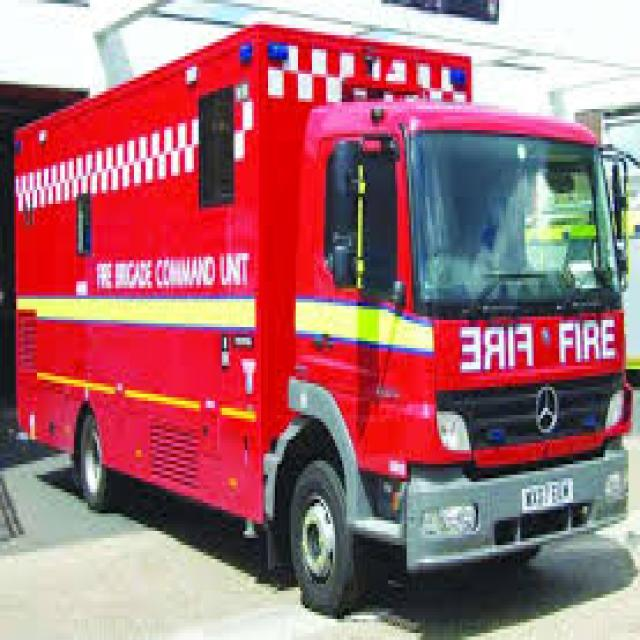Fire_brigade: (14, 39, 638, 580)
